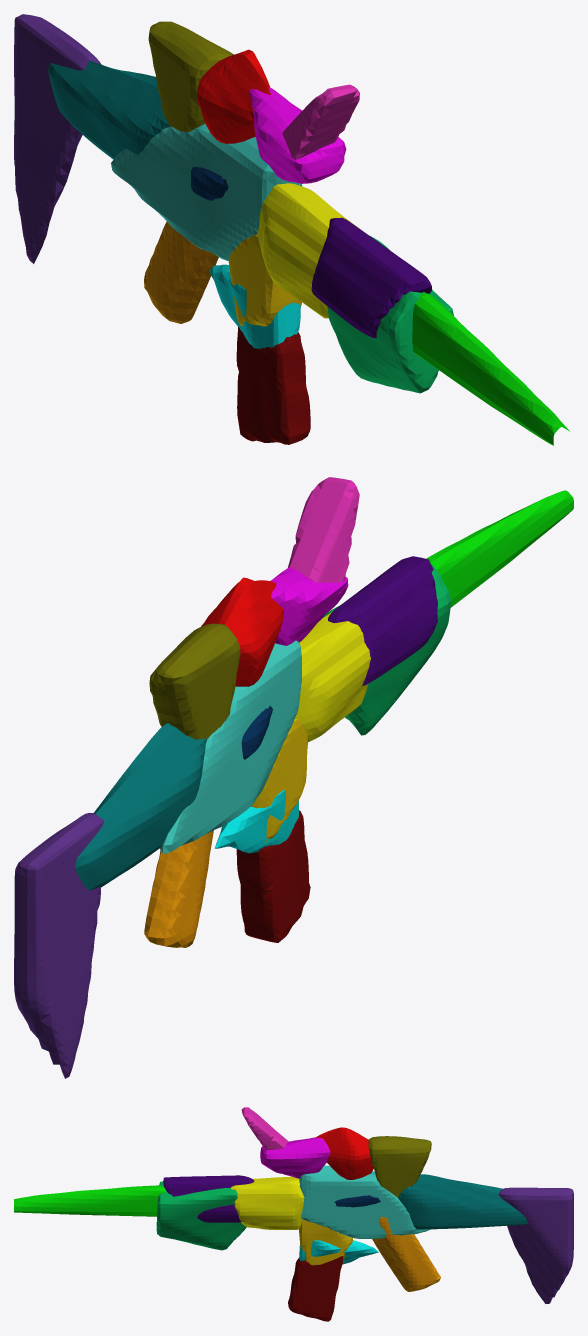
3 views of the same model, one above another, from view 1: azimuth 30°, elevation 25°; view 2: azimuth 150°, elevation 25°; view 3: azimuth 270°, elevation 25° (orthographic). The views are drawn at different scales.
Visible parts, largest first — view 1: 1b4484ff850e4580a96eb29ade0c98a4_l01; view 2: 1b4484ff850e4580a96eb29ade0c98a4_l01; view 3: 1b4484ff850e4580a96eb29ade0c98a4_l01.
Boxes of the visible parts, x1,y1,x2,y2 form: 1b4484ff850e4580a96eb29ade0c98a4_l01: (14, 14, 569, 445); 1b4484ff850e4580a96eb29ade0c98a4_l01: (14, 477, 573, 1078); 1b4484ff850e4580a96eb29ade0c98a4_l01: (14, 1107, 573, 1321).
Size of the model in its own units: 0.1386 by 0.8138 by 1.98.
